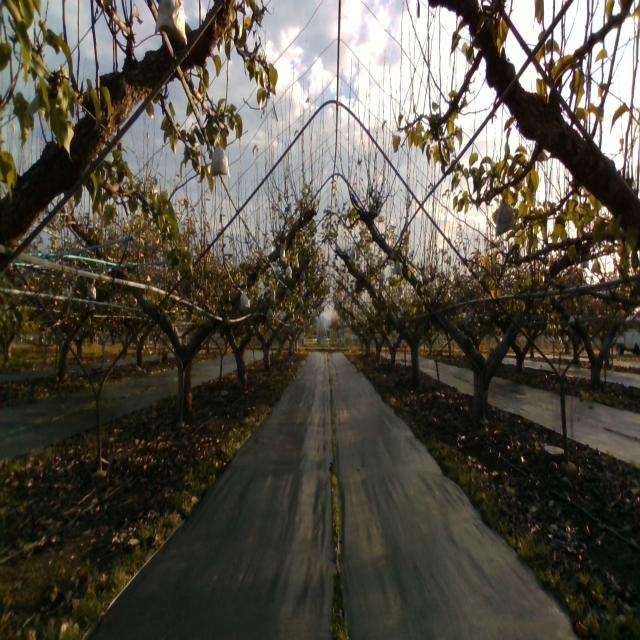pearbags: (153, 0, 188, 47), (494, 193, 518, 237), (209, 136, 231, 179), (240, 290, 250, 310), (393, 259, 403, 277)
